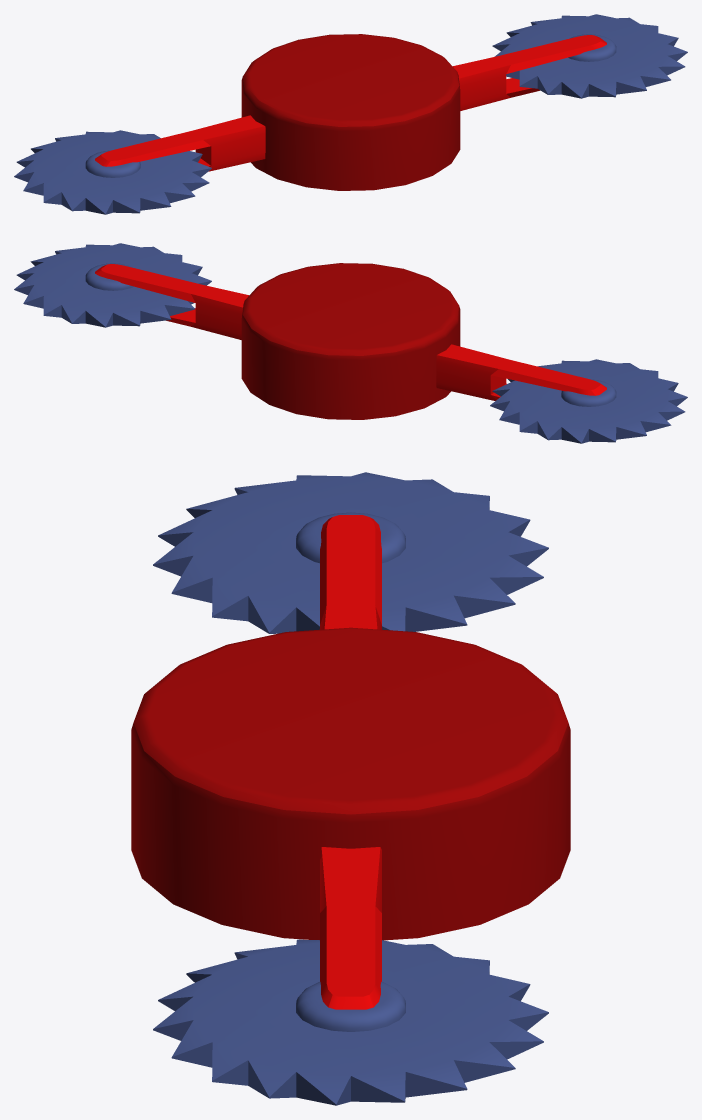
File: Saw_B_double.fbx
The picture shows the model from 3 angles, top to bottom: view 1: azimuth 30°, elevation 25°; view 2: azimuth 150°, elevation 25°; view 3: azimuth 270°, elevation 25°; orthographic projection. The views are drawn at different scales.
Visible parts, largest first — view 1: Saw_B_double; view 2: Saw_B_double; view 3: Saw_B_double.
Boxes of the visible parts, bbox=[...] form: Saw_B_double: bbox=[14, 14, 687, 214]; Saw_B_double: bbox=[14, 243, 687, 443]; Saw_B_double: bbox=[131, 472, 570, 1105].
Size of the model in its own units: 201 by 19.99 by 59.07.
